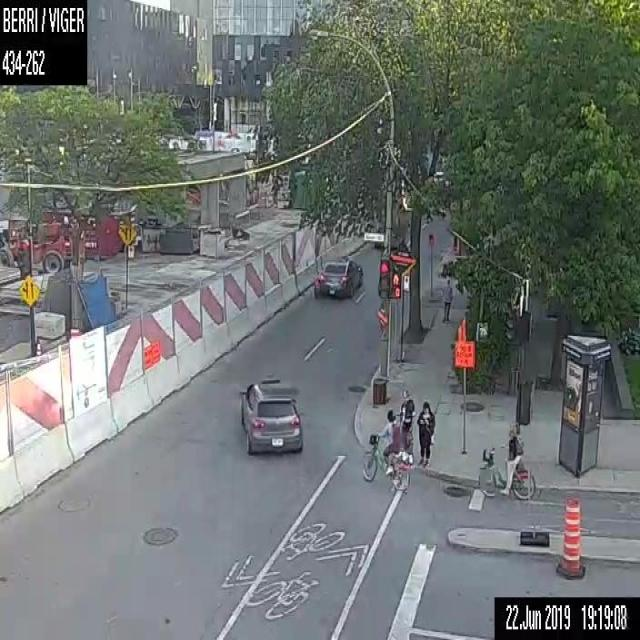construction: (0, 140, 392, 513), (451, 338, 476, 453), (556, 494, 584, 578), (68, 326, 80, 337), (34, 341, 42, 356)
cyclist: (360, 409, 414, 492), (479, 427, 536, 501)
pedestrian: (416, 401, 434, 468), (399, 398, 414, 453), (442, 279, 452, 321)
vehicle: (239, 378, 301, 454), (311, 253, 363, 299)
